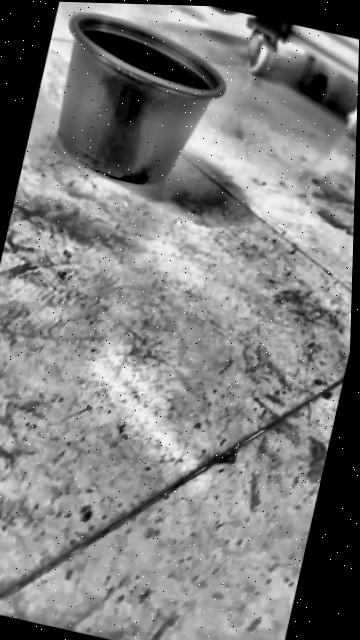pot: (38, 7, 235, 199)
